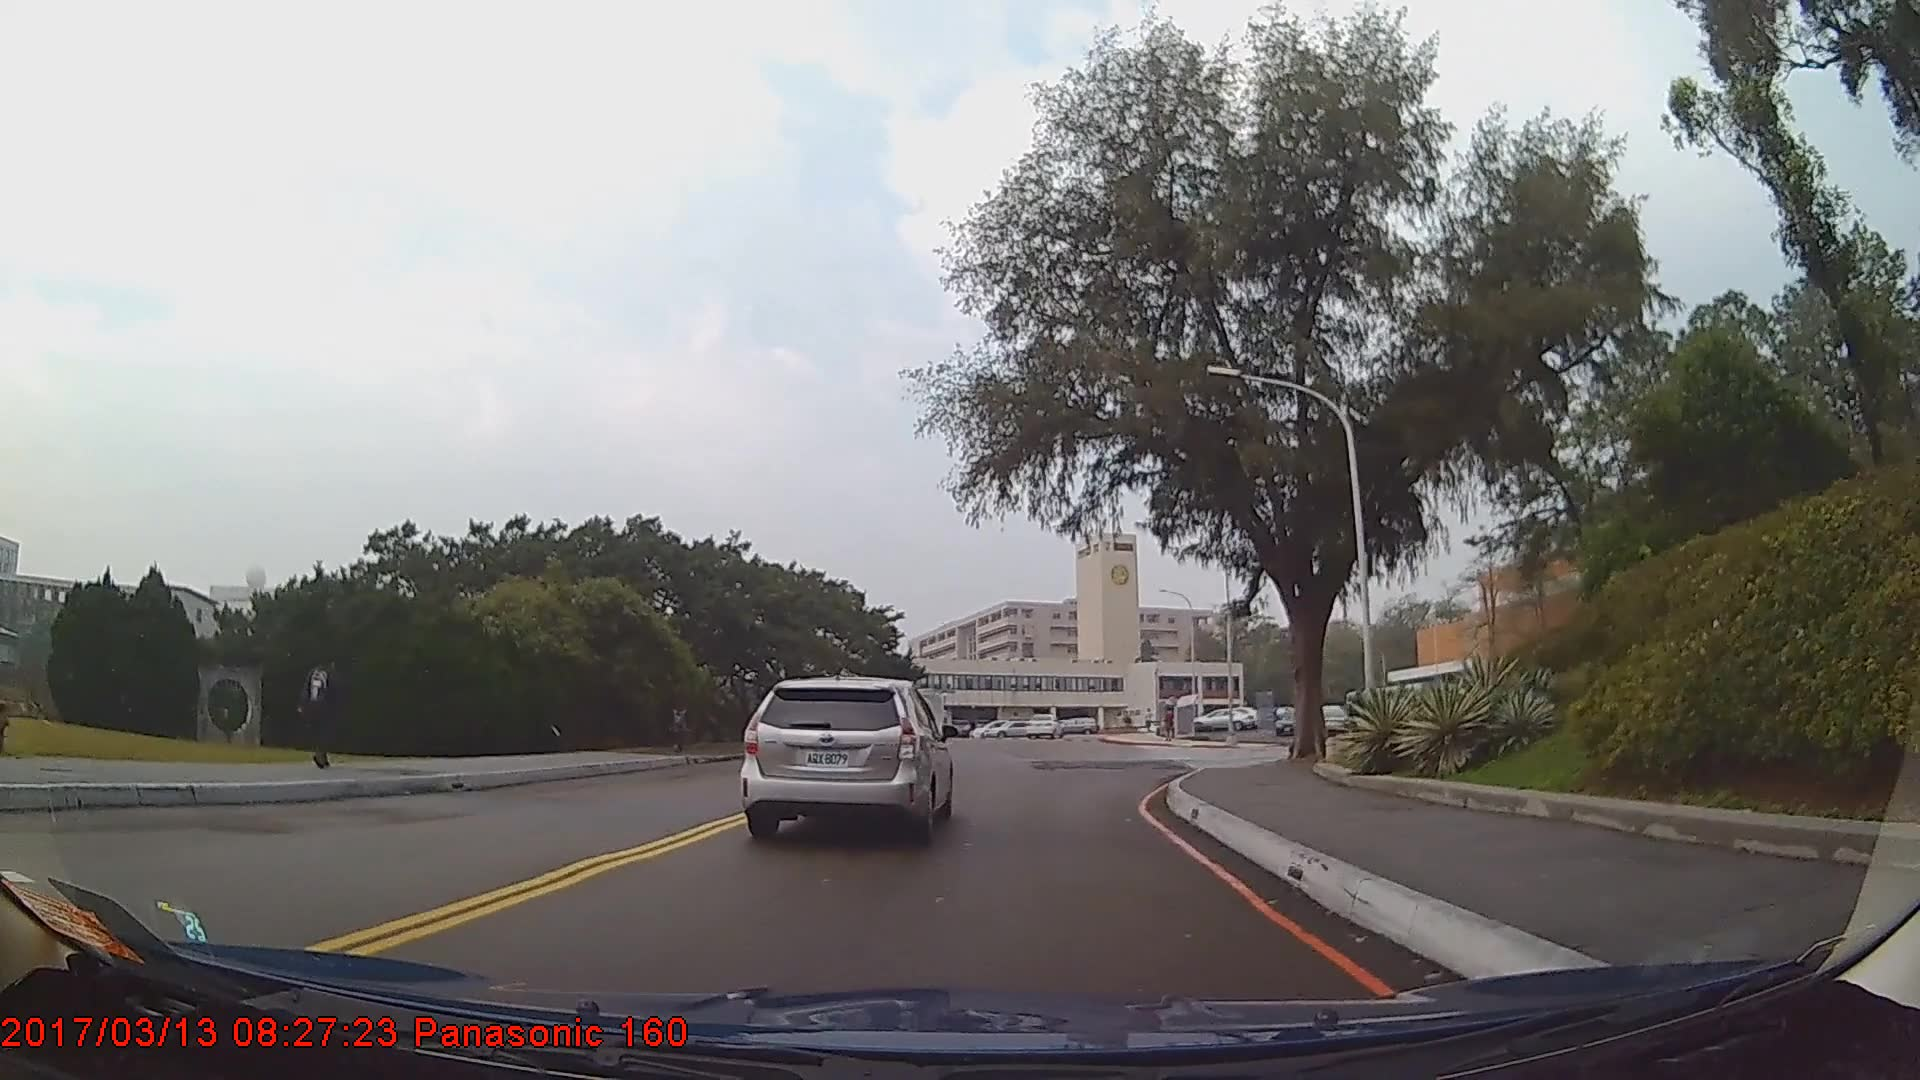pedestrian: (295, 644, 347, 769)
vehicle: (740, 672, 952, 841), (1194, 706, 1254, 732), (980, 713, 1035, 738), (1022, 709, 1065, 736), (1317, 705, 1345, 732), (1270, 709, 1297, 733)
